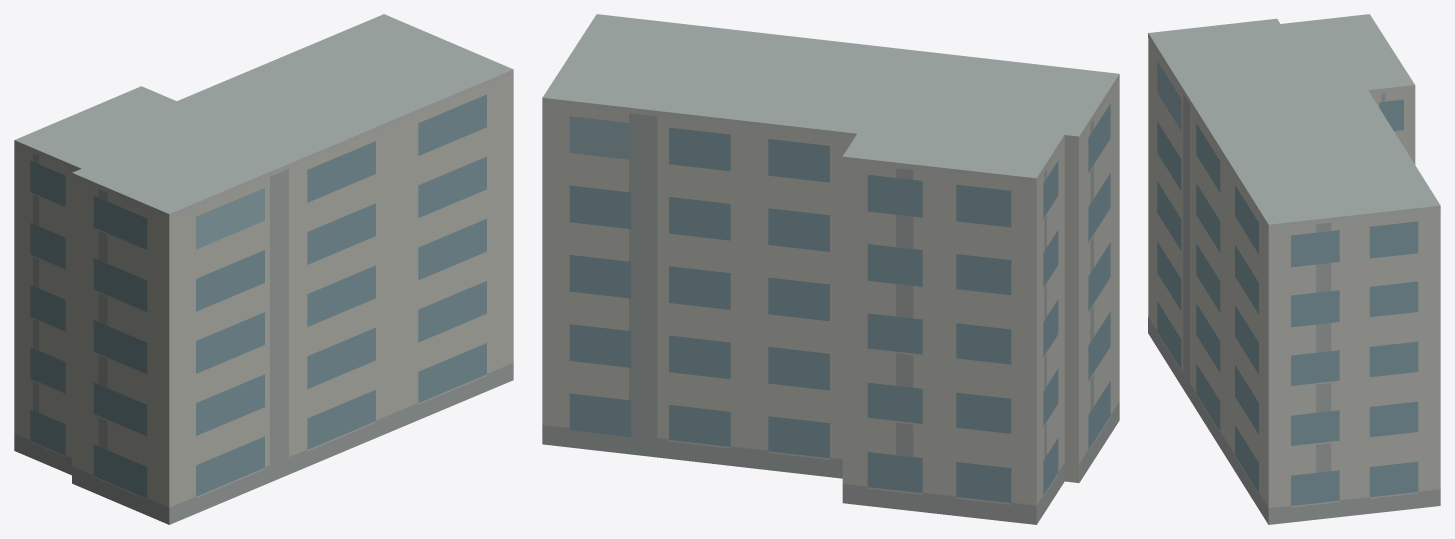
Rendered from survey-upis-32761491.glb.
3 views of the same model, side by side, from view 1: azimuth 30°, elevation 25°; view 2: azimuth 150°, elevation 25°; view 3: azimuth 270°, elevation 25° (orthographic). The views are drawn at different scales.
Visible parts, largest first — view 1: survey-upis-32761491.tmp; view 2: survey-upis-32761491.tmp; view 3: survey-upis-32761491.tmp.
Boxes of the visible parts, x1=… form: survey-upis-32761491.tmp: x1=14, y1=14, x2=513, y2=524; survey-upis-32761491.tmp: x1=542, y1=14, x2=1119, y2=524; survey-upis-32761491.tmp: x1=1148, y1=14, x2=1440, y2=524.
Size of the model in its own units: 22.96 by 15.25 by 13.48.
